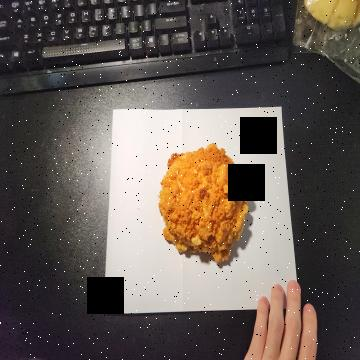soboru_bread: (160, 139, 251, 268)
